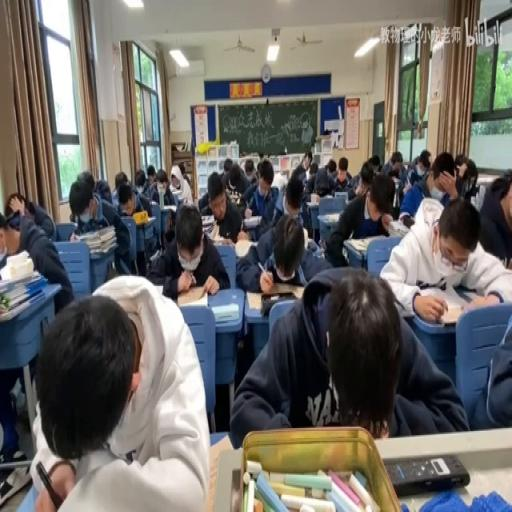calculator: (206, 431, 234, 508), (246, 284, 304, 310), (0, 292, 43, 320), (461, 282, 505, 304), (0, 268, 40, 292), (177, 282, 206, 304), (210, 300, 238, 322), (234, 236, 256, 258), (388, 218, 411, 236), (472, 182, 487, 209), (344, 238, 370, 253), (135, 214, 157, 228), (306, 236, 320, 255), (201, 214, 214, 234), (213, 233, 233, 245), (242, 215, 262, 226), (320, 212, 339, 222), (334, 189, 348, 201), (0, 247, 7, 269), (149, 246, 159, 260), (162, 203, 176, 212), (306, 196, 320, 205), (391, 176, 400, 188)
paper: (228, 263, 462, 447), (0, 194, 73, 446), (378, 195, 510, 321), (148, 202, 228, 299), (236, 206, 325, 289), (322, 169, 394, 263), (71, 171, 133, 277), (464, 296, 510, 428), (398, 148, 438, 218), (301, 161, 333, 232), (215, 159, 253, 216), (27, 196, 55, 239), (148, 168, 177, 206), (197, 171, 219, 213), (381, 148, 405, 183), (331, 156, 352, 194), (5, 192, 27, 220), (114, 171, 132, 202), (93, 175, 111, 205), (75, 170, 93, 194), (272, 185, 285, 217), (294, 164, 308, 192), (360, 165, 374, 188), (463, 168, 477, 190), (179, 161, 191, 186), (368, 152, 381, 174), (134, 168, 146, 190), (454, 152, 466, 174), (222, 156, 232, 174), (26, 199, 36, 215), (308, 161, 318, 176), (420, 148, 430, 163), (302, 156, 310, 170), (327, 163, 336, 175), (255, 161, 262, 175), (412, 156, 419, 170), (246, 162, 252, 176)
person: (384, 452, 468, 494)
